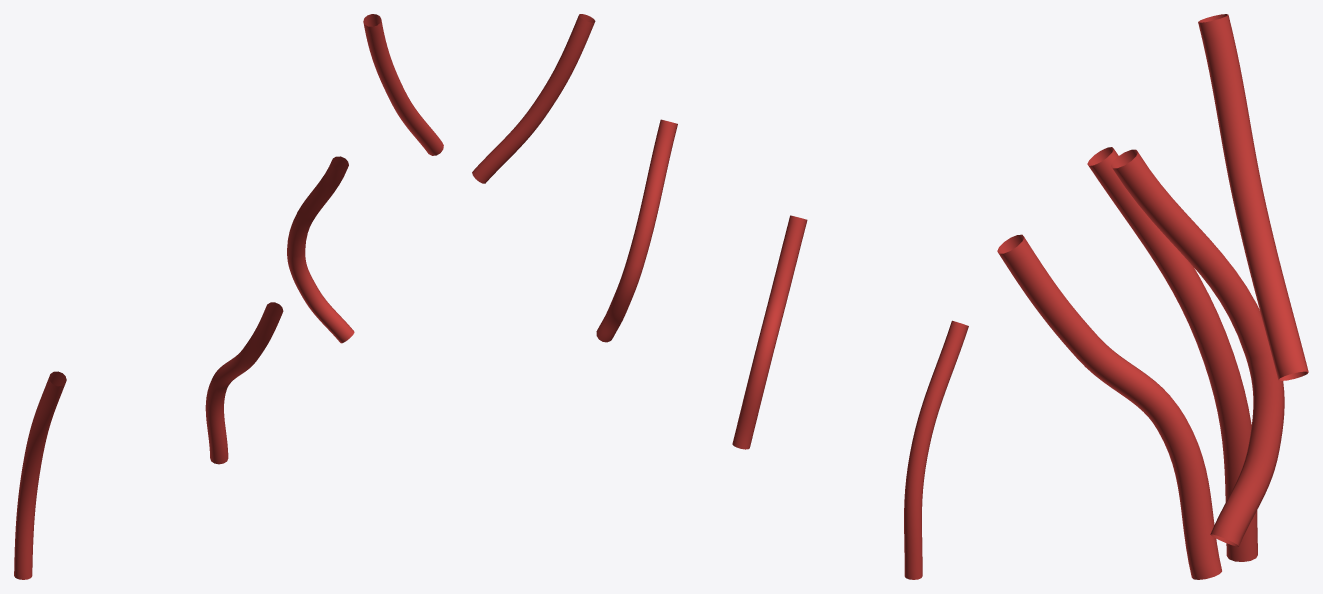
The picture shows the model from 3 angles, left to right: view 1: azimuth 30°, elevation 25°; view 2: azimuth 150°, elevation 25°; view 3: azimuth 270°, elevation 25°; orthographic projection. The views are drawn at different scales.
Visible parts, largest first — view 1: 左侧趾足底总动脉; view 2: 左侧趾足底总动脉; view 3: 左侧趾足底总动脉.
Part boxes in pixels (bbox=[...]): 左侧趾足底总动脉: bbox=[14, 14, 443, 579]; 左侧趾足底总动脉: bbox=[472, 14, 968, 579]; 左侧趾足底总动脉: bbox=[997, 14, 1308, 579].
Bounding box in the file's own units: 0.0584 × 0.0601 × 0.0205.
